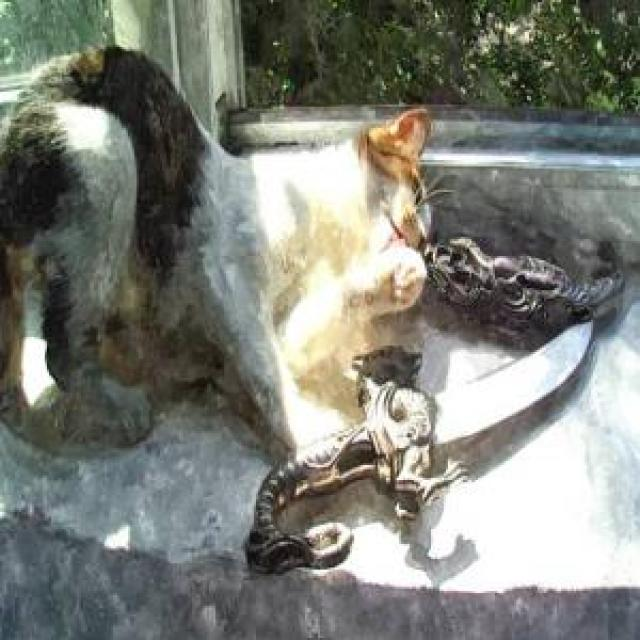knife: (246, 309, 598, 582)
